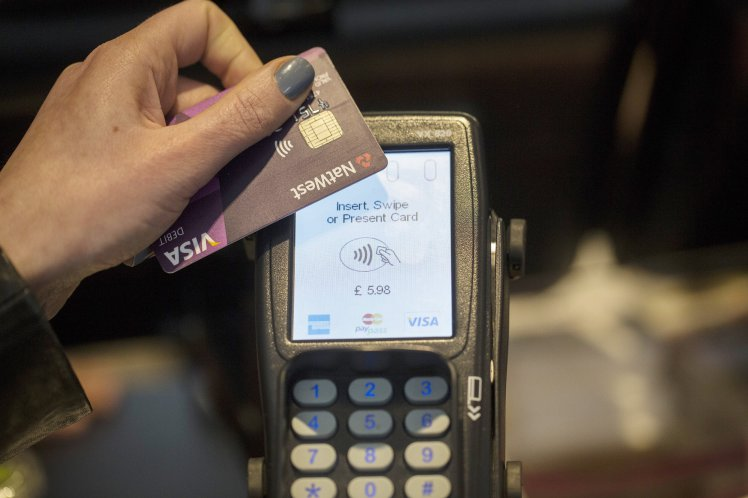tarjeta: (145, 46, 389, 274)
